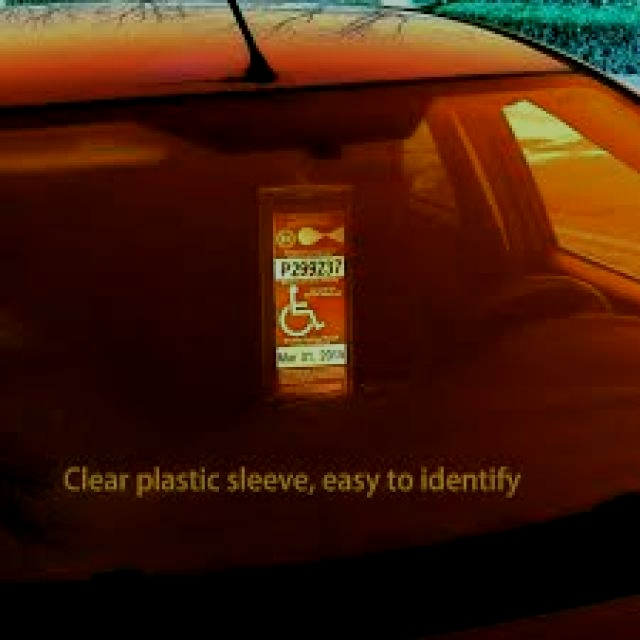ISA: (278, 283, 326, 338)
